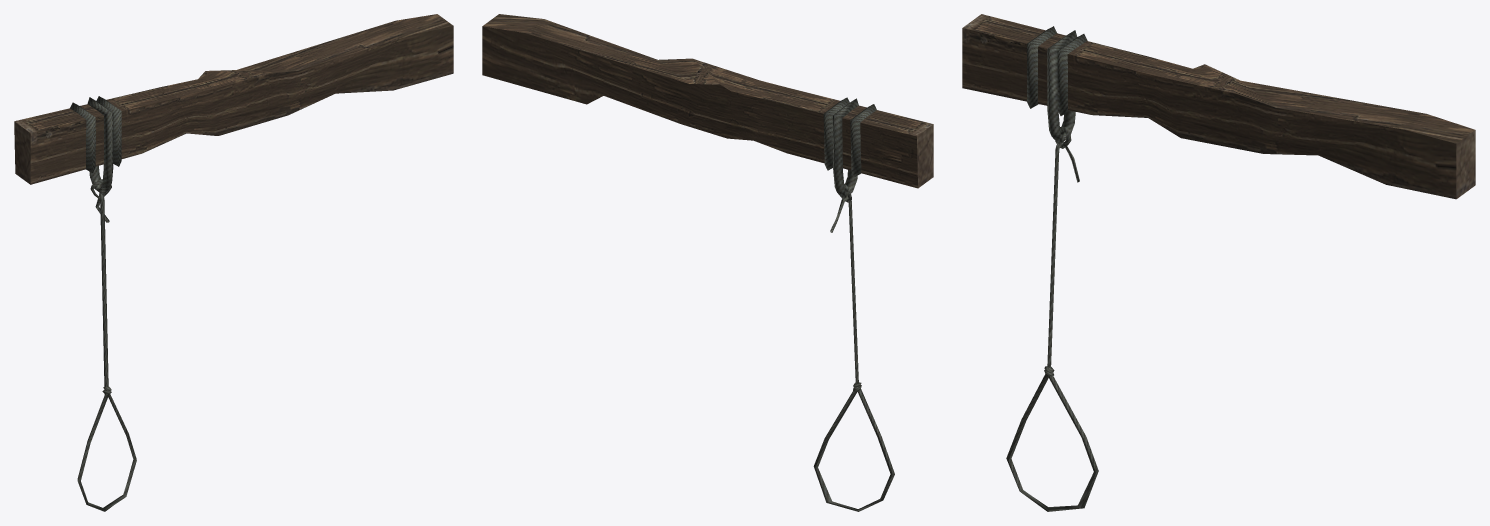
The model's file is Wood_rope.fbx.
3 views of the same model, side by side, from view 1: azimuth 30°, elevation 25°; view 2: azimuth 150°, elevation 25°; view 3: azimuth 330°, elevation 25° (orthographic). The views are drawn at different scales.
Parts seen in each view (by area): view 1: Wood_rope; view 2: Wood_rope; view 3: Wood_rope.
Boxes of the visible parts, left/top/right/bottom form: Wood_rope: left=14, top=14, right=453, bottom=511; Wood_rope: left=482, top=14, right=933, bottom=511; Wood_rope: left=962, top=14, right=1475, bottom=511.
Size of the model in its own units: 115 by 105 by 11.32.
